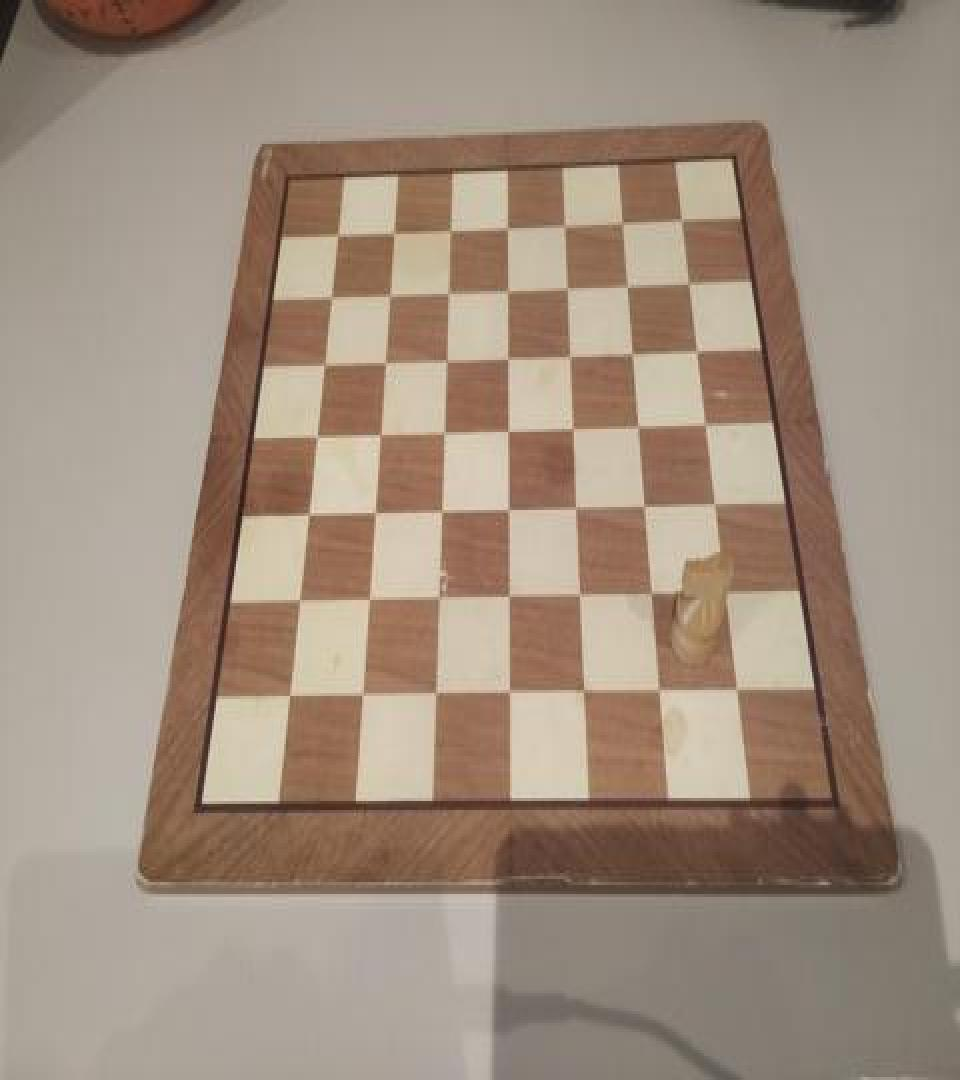xcorner: (278, 676, 298, 706), (351, 676, 371, 706), (425, 676, 445, 706), (500, 675, 520, 705), (576, 675, 596, 705), (289, 582, 309, 612), (428, 579, 448, 609), (500, 579, 520, 609), (571, 578, 591, 608), (644, 576, 664, 606), (718, 574, 738, 604), (298, 495, 318, 525), (365, 494, 385, 524), (432, 492, 452, 522), (499, 490, 519, 520), (568, 489, 588, 519), (637, 488, 657, 518), (707, 486, 727, 516), (307, 417, 327, 447), (370, 416, 390, 446), (434, 412, 454, 442), (499, 411, 519, 441), (564, 408, 584, 438), (631, 406, 651, 436), (697, 405, 717, 435), (315, 345, 335, 375), (376, 342, 396, 372), (437, 340, 457, 370), (499, 338, 519, 368), (561, 336, 581, 366), (625, 333, 645, 363), (689, 330, 709, 360), (322, 279, 342, 309), (380, 276, 400, 306), (439, 273, 459, 303), (499, 272, 519, 302), (559, 268, 579, 298), (619, 266, 639, 296), (680, 262, 700, 292), (329, 218, 349, 248), (385, 214, 405, 244), (441, 212, 461, 242), (498, 208, 518, 238), (556, 207, 576, 237), (614, 204, 634, 234), (673, 201, 693, 231), (652, 674, 672, 703), (730, 674, 750, 703), (358, 581, 378, 610)
